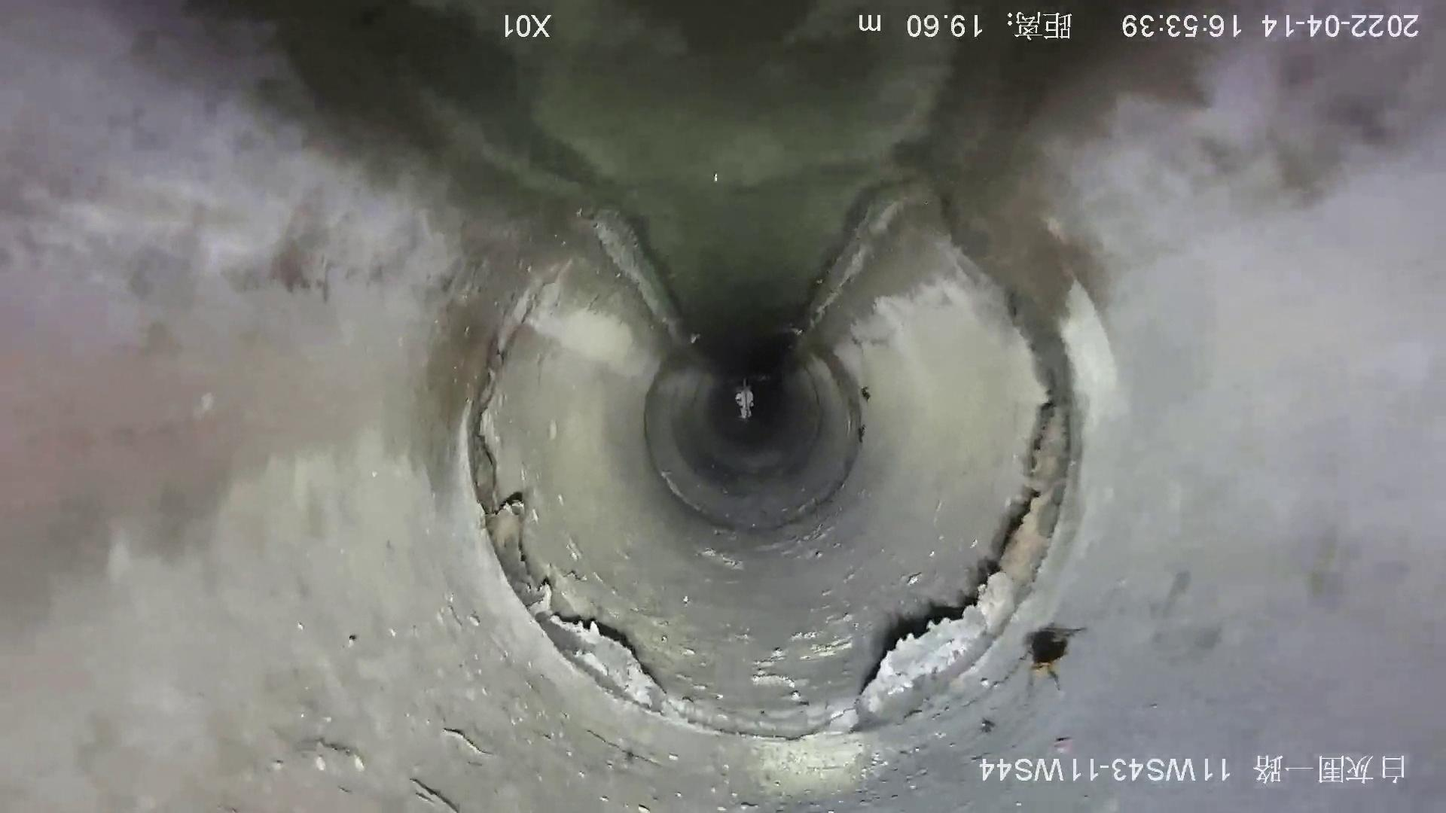JKCL: (458, 238, 1085, 747)
